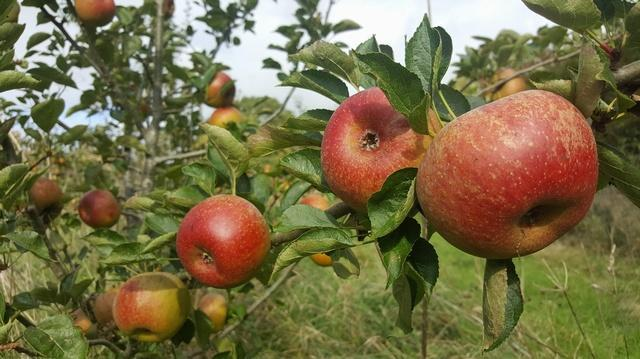apple: (413, 86, 597, 260), (318, 88, 425, 208), (175, 193, 270, 287), (110, 270, 194, 342), (78, 188, 121, 229), (195, 291, 228, 328), (29, 176, 64, 210), (74, 1, 115, 25)
